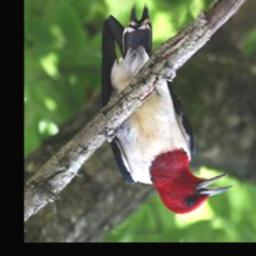Woodpecker: (95, 2, 237, 215)
